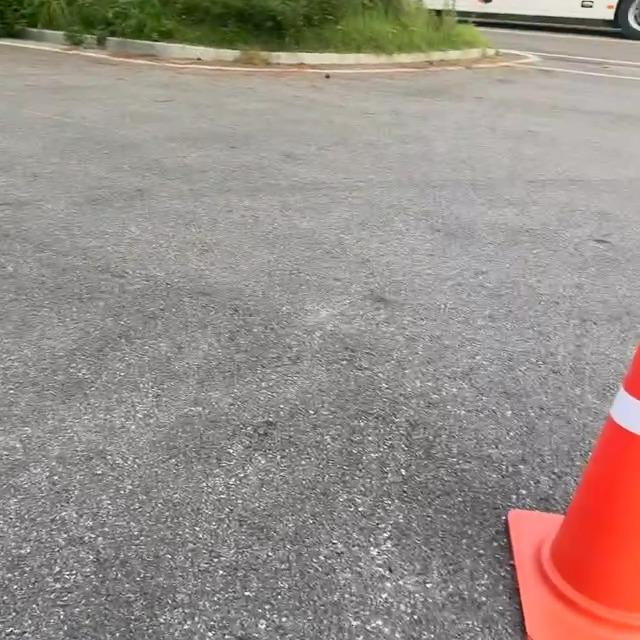fallen_object: (420, 270, 640, 640)
